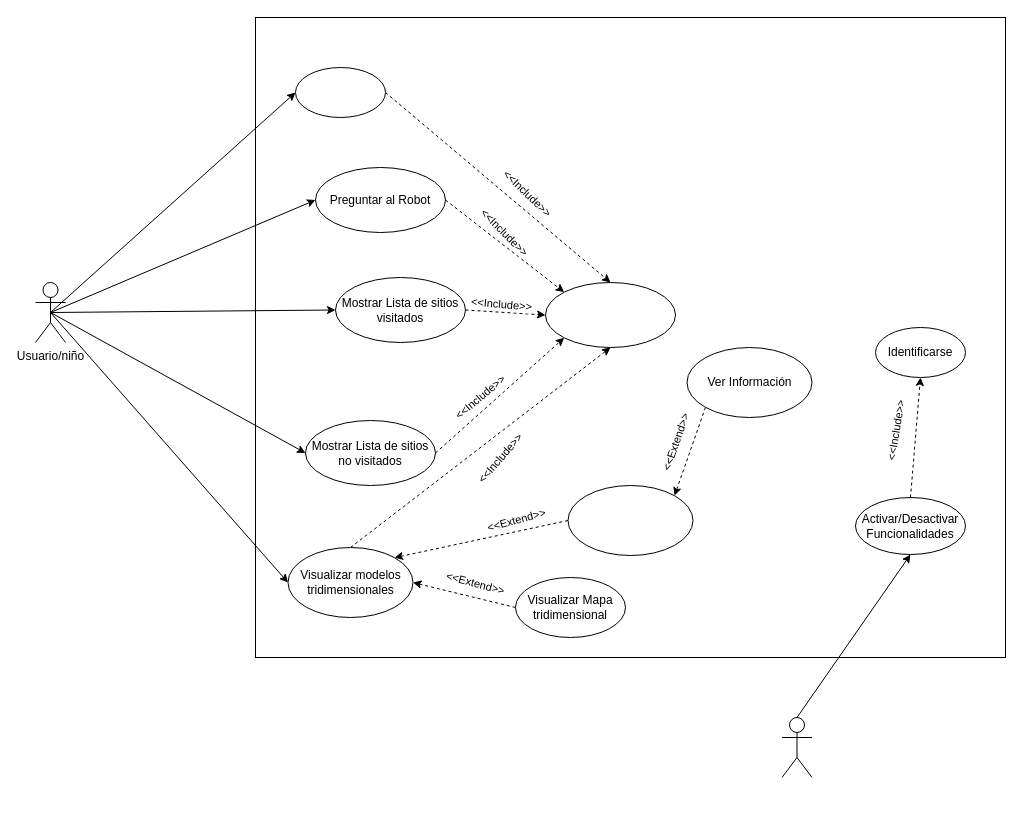
Some shapes in this 1023 by 816 pixel diagram are drawn without their labels. The centre of each missing label's shape, as x and y in pixels:
"Acompañante/Administrador" goes at (x=796, y=747).
"Escanear QR" goes at (x=340, y=92).
"Introducir Código" goes at (x=610, y=315).
"Visualizar coche tridimensional" goes at (x=630, y=520).
